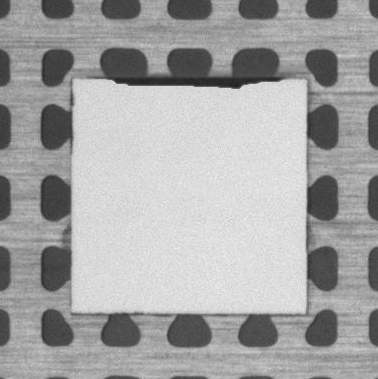DIE_BROKEN: (94, 73, 288, 92)
